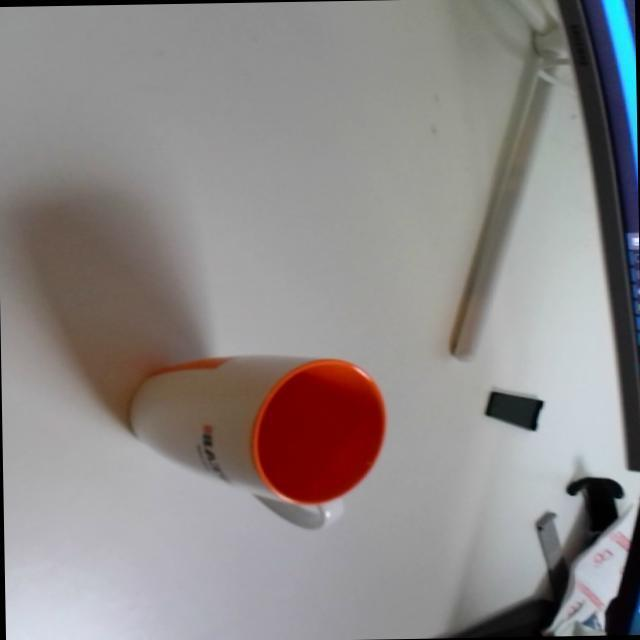cup: (124, 348, 391, 532)
